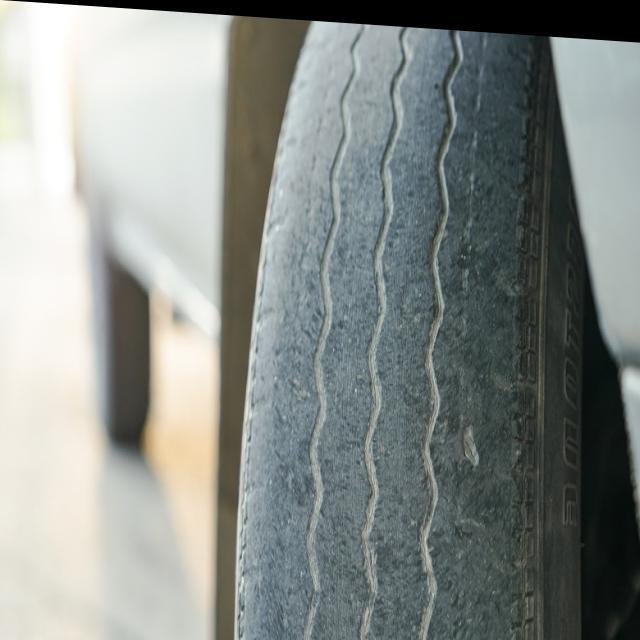Flat spots: (251, 34, 530, 640)
